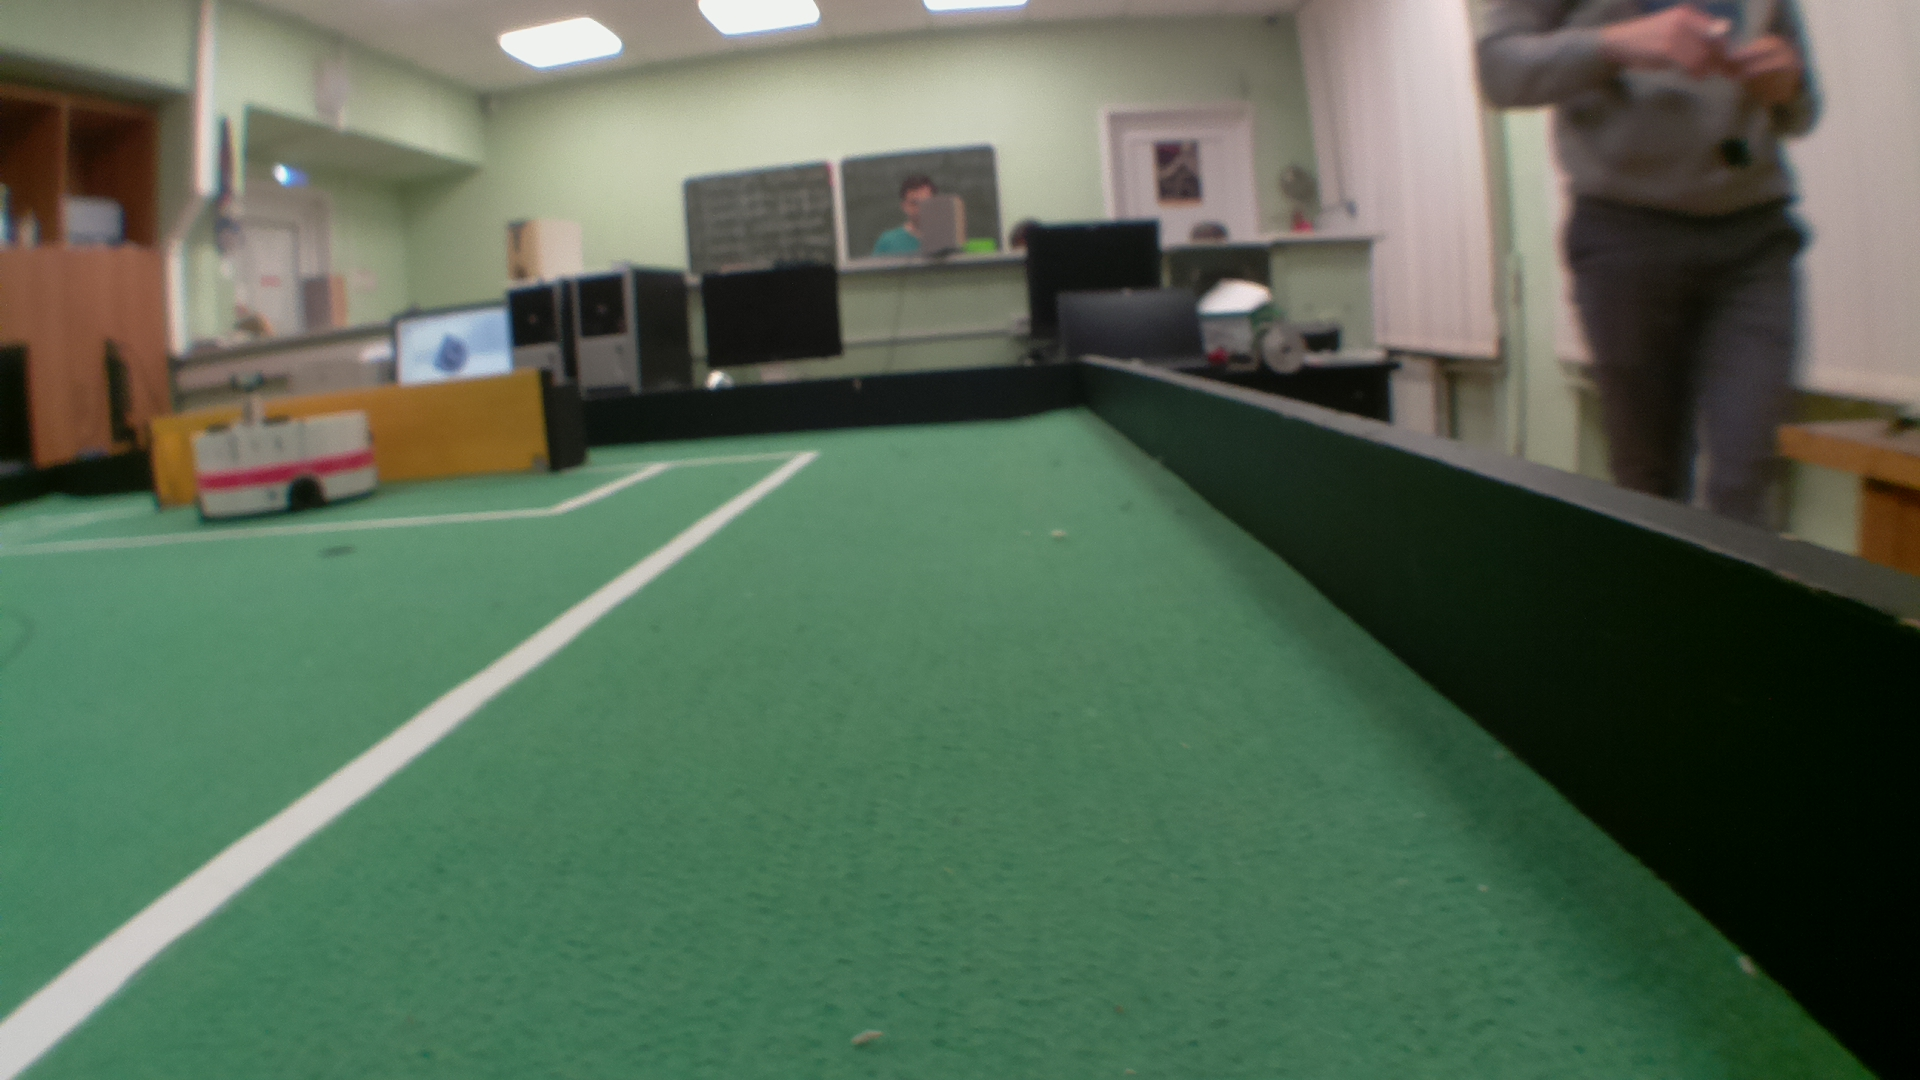YellowGoal: (157, 372, 549, 495)
